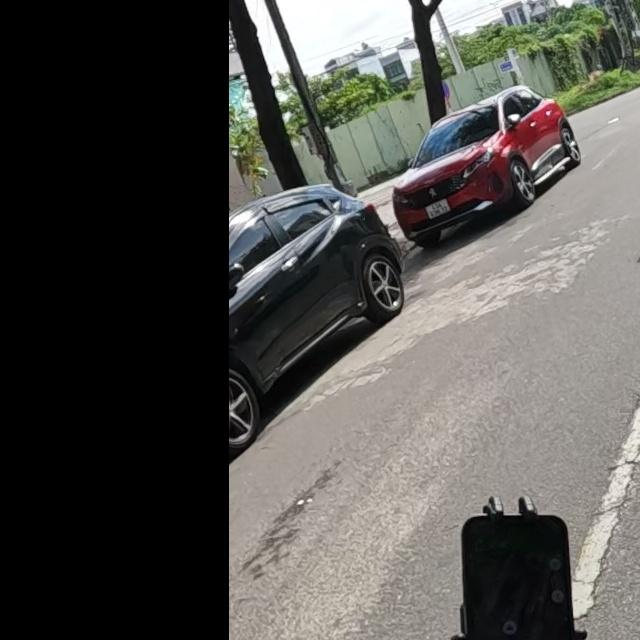license-plate: (424, 198, 451, 219)
